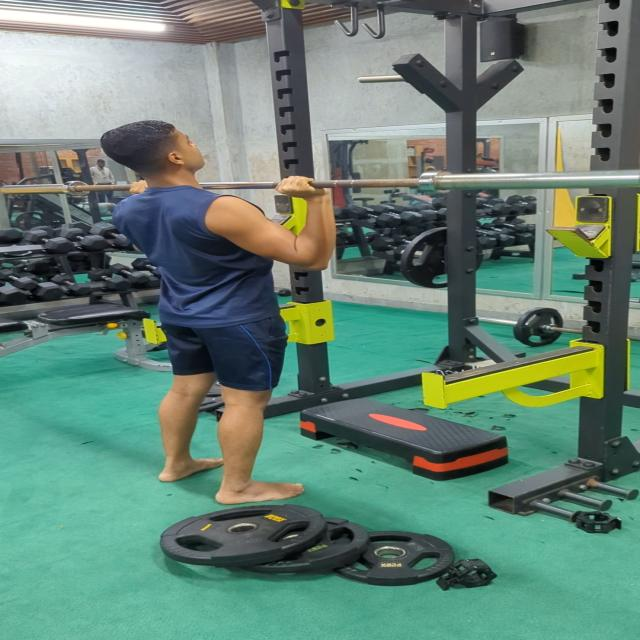Normal_OverheadPress: (77, 100, 364, 512)
